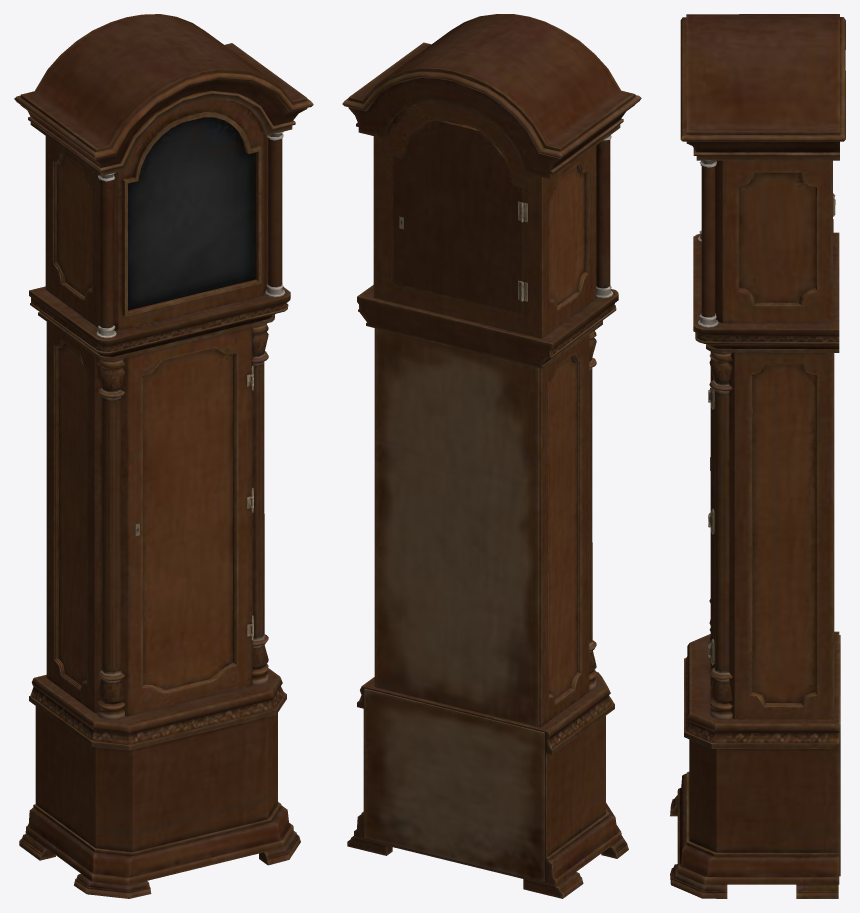
Rendered from vintage_grandfather_clock_01.glb.
3 renders of one model, left to right at view 1: azimuth 30°, elevation 25°; view 2: azimuth 150°, elevation 25°; view 3: azimuth 270°, elevation 25°, orthographic. The views are drawn at different scales.
Visible parts, largest first — view 1: vintage_grandfather_clock_01_Body; view 2: vintage_grandfather_clock_01_Body; view 3: vintage_grandfather_clock_01_Body.
Boxes of the visible parts, x1,y1,x2,y2 form: vintage_grandfather_clock_01_Body: (14, 14, 313, 898); vintage_grandfather_clock_01_Body: (342, 14, 641, 898); vintage_grandfather_clock_01_Body: (670, 14, 845, 898).
Size of the model in its own units: 0.6256 by 2.19 by 0.4266.
2 materials, 2 textured.
